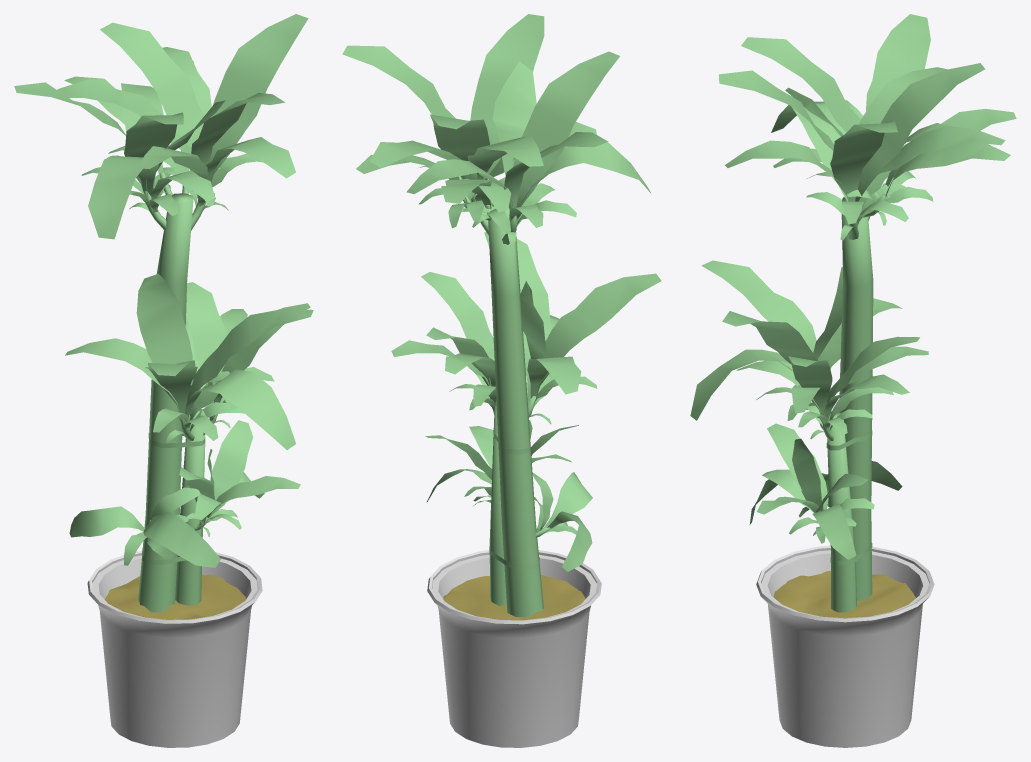
Rendered from Plant07.FBX.
3 views of the same model, side by side, from view 1: azimuth 30°, elevation 25°; view 2: azimuth 150°, elevation 25°; view 3: azimuth 270°, elevation 25° (orthographic).
Parts seen in each view (by area): view 1: Plant07; view 2: Plant07; view 3: Plant07.
Boxes of the visible parts, x1,y1,x2,y2 form: Plant07: [14, 14, 313, 747]; Plant07: [342, 14, 661, 747]; Plant07: [690, 14, 1016, 747].
Size of the model in its own units: 56.21 by 56.56 by 127.
